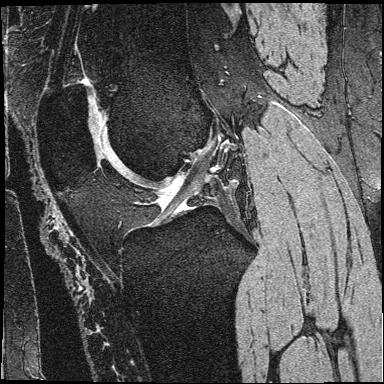SagKneeJointArea: (37, 83, 259, 289)
